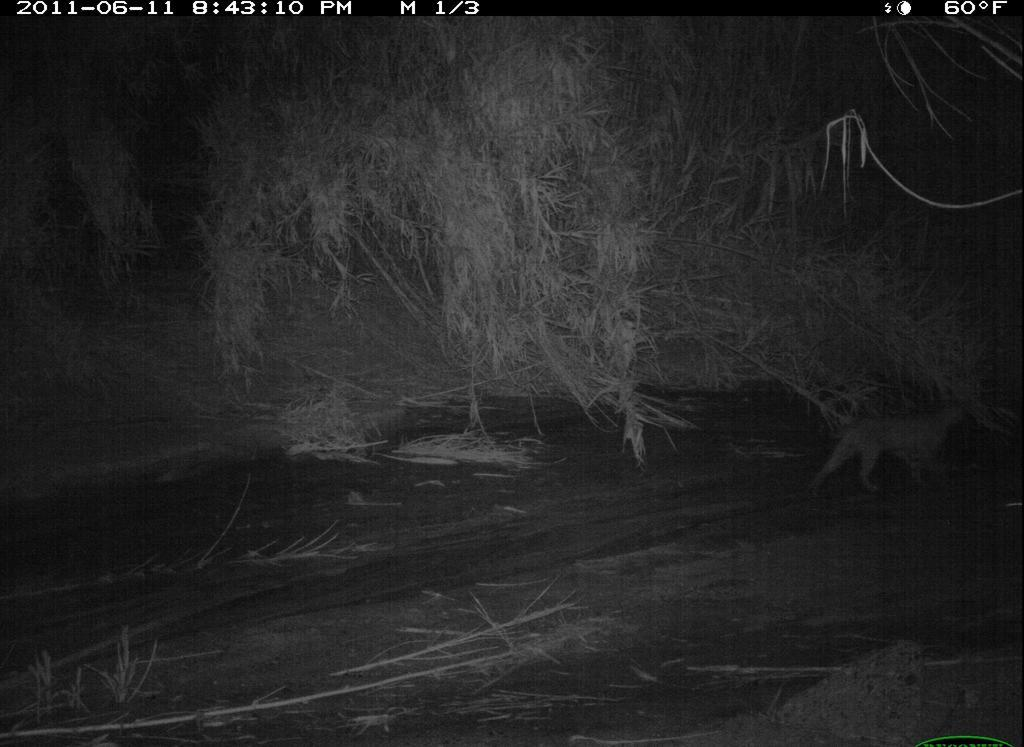bobcat: (781, 390, 981, 505)
